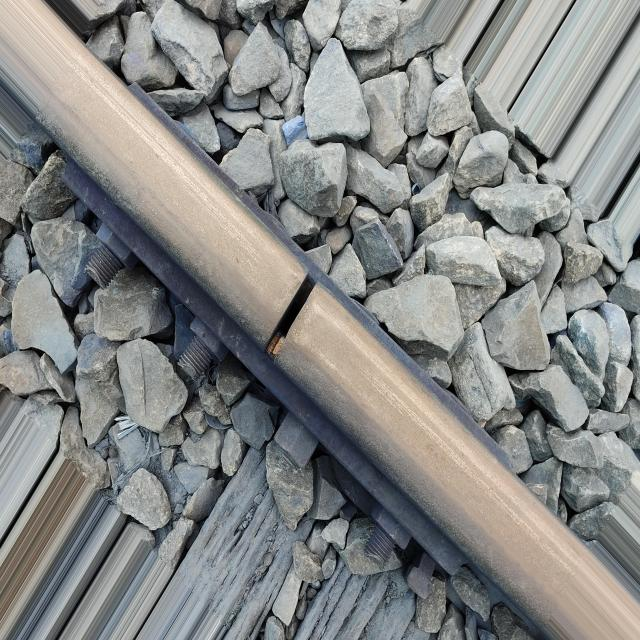crack: (240, 248, 345, 392)
